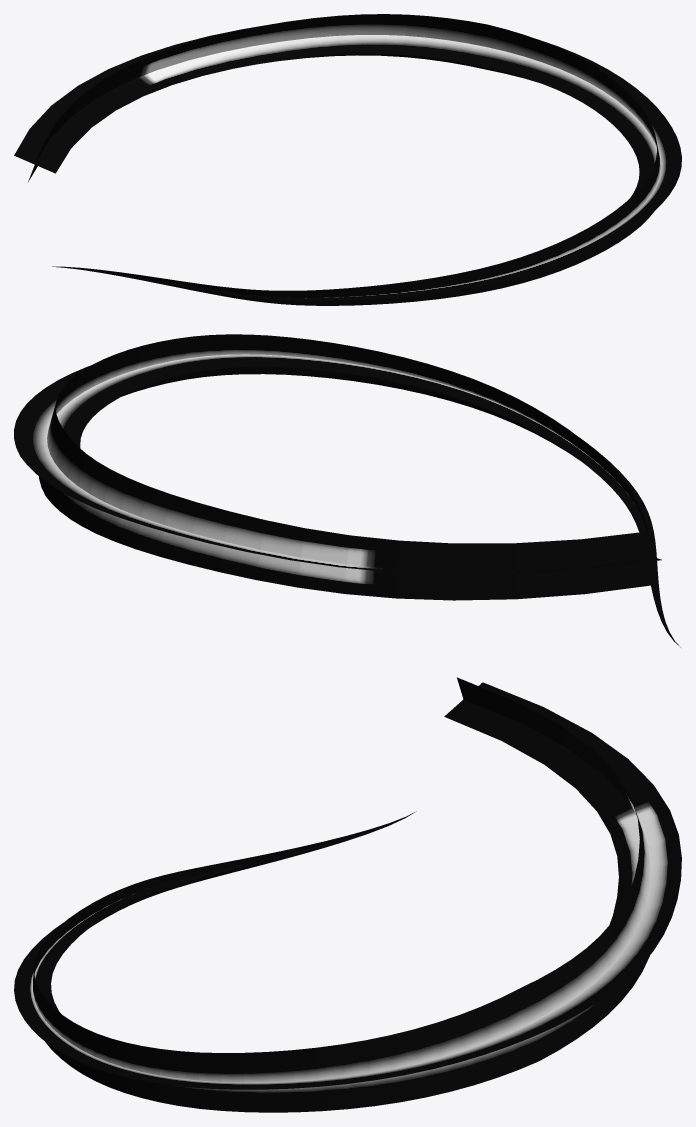
File: TypeZero7.fbx
3 views of the same model, one above another, from view 1: azimuth 30°, elevation 25°; view 2: azimuth 150°, elevation 25°; view 3: azimuth 270°, elevation 25° (orthographic). The views are drawn at different scales.
Parts seen in each view (by area): view 1: SM_WEP_Eff_D61NJ1_A_07.mo; view 2: SM_WEP_Eff_D61NJ1_A_07.mo; view 3: SM_WEP_Eff_D61NJ1_A_07.mo.
Boxes of the visible parts, x1,y1,x2,y2 form: SM_WEP_Eff_D61NJ1_A_07.mo: (14, 14, 681, 305); SM_WEP_Eff_D61NJ1_A_07.mo: (14, 334, 680, 647); SM_WEP_Eff_D61NJ1_A_07.mo: (14, 677, 681, 1112).
Bounding box in the file's own units: 1084 × 198 × 851.
